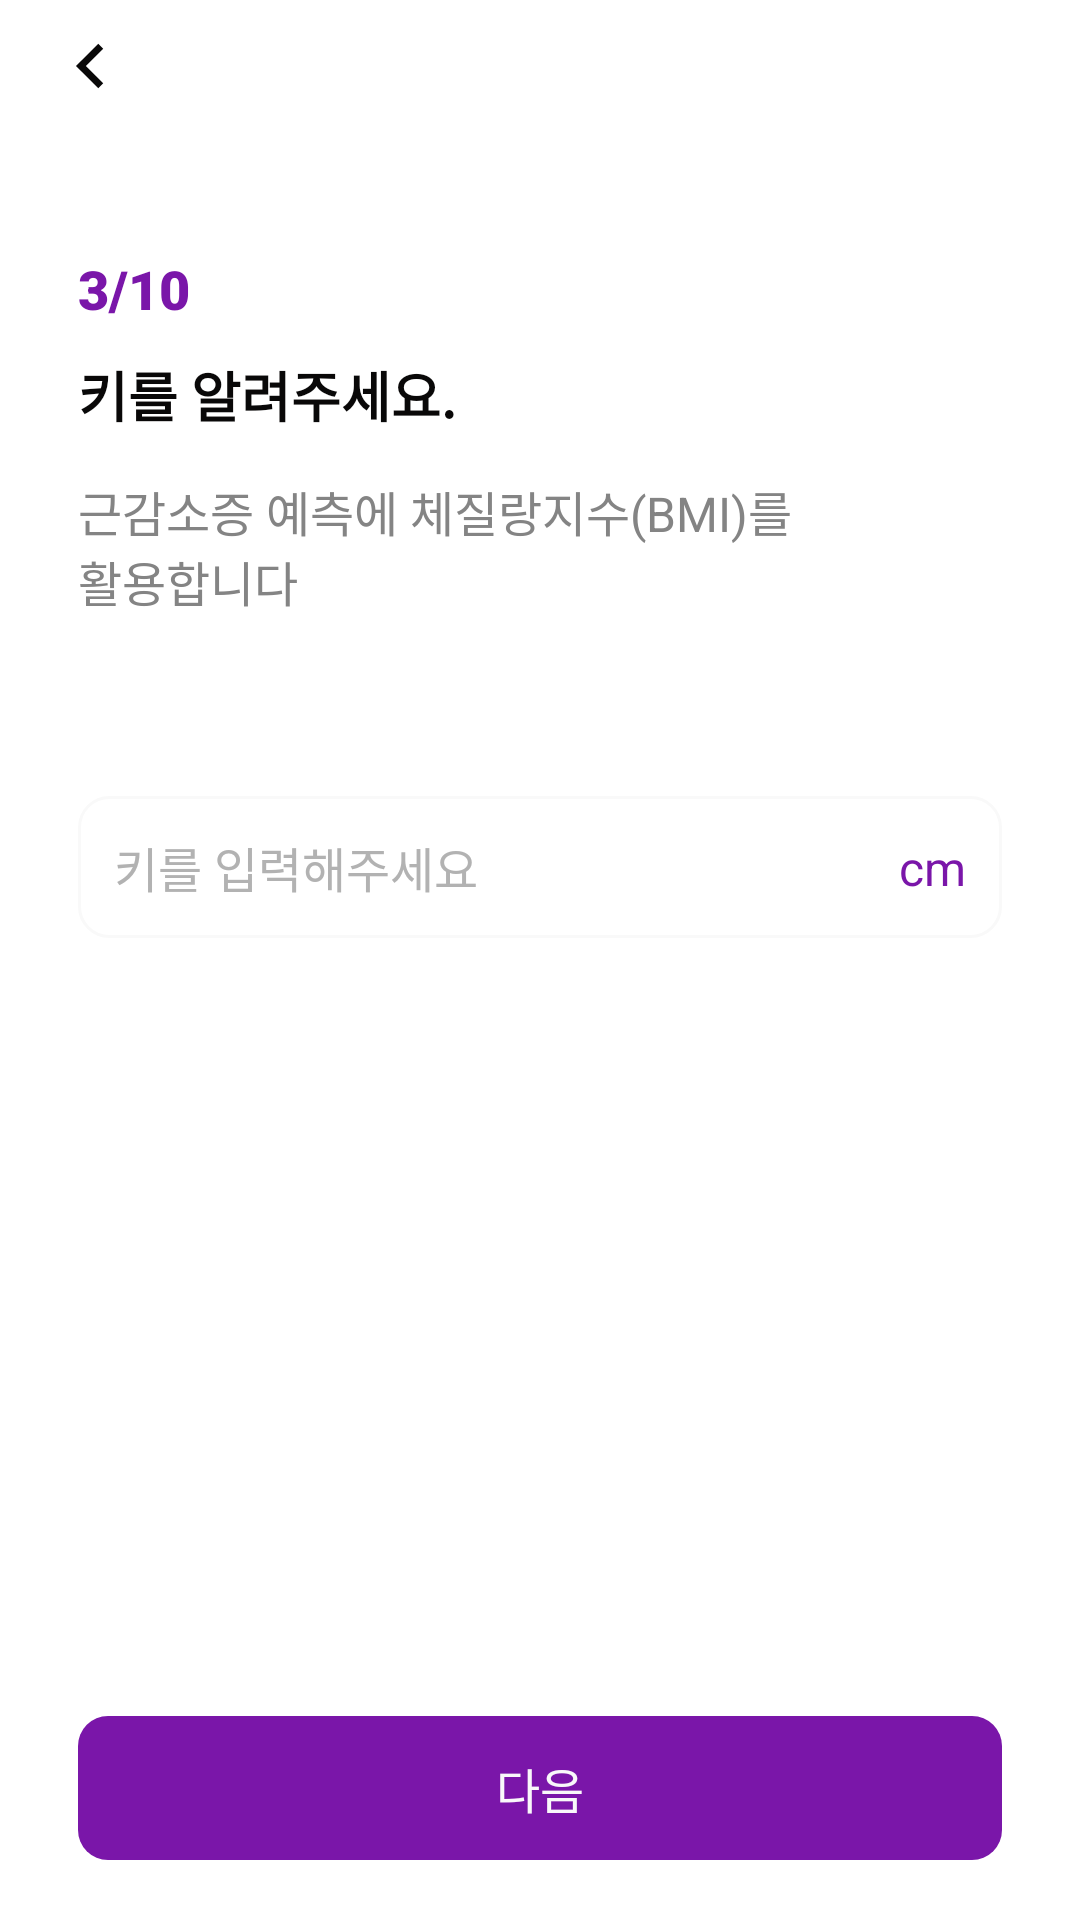

Icon click points for this 1080 x 1920 phone screenshot, format (x=x, y=y):
arrow: (x=89, y=66)
